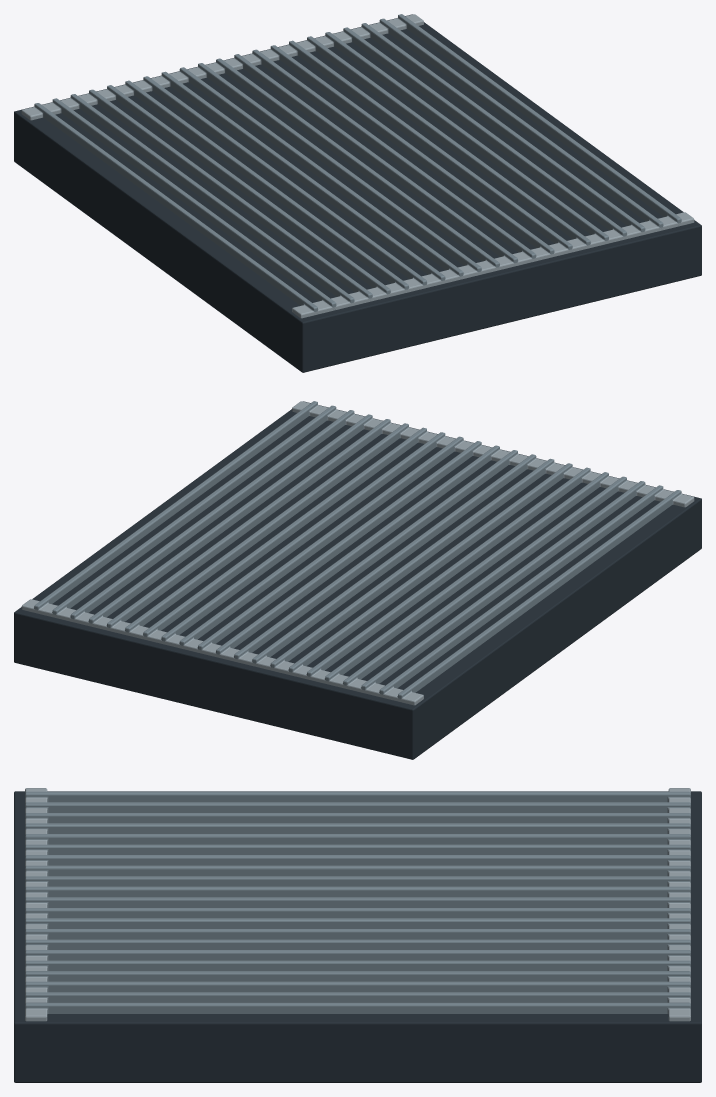
The model's file is SM_Lab_GalleryTile.fbx.
3 views of the same model, one above another, from view 1: azimuth 30°, elevation 25°; view 2: azimuth 150°, elevation 25°; view 3: azimuth 270°, elevation 25° (orthographic). The views are drawn at different scales.
Visible parts, largest first — view 1: SM_Lab_GalleryTile; view 2: SM_Lab_GalleryTile; view 3: SM_Lab_GalleryTile.
Part boxes in pixels (x1,y1,x2,y2): SM_Lab_GalleryTile: (14, 14, 701, 372); SM_Lab_GalleryTile: (14, 401, 701, 759); SM_Lab_GalleryTile: (14, 788, 701, 1082).
Bounding box in the file's own units: 198 × 248 × 27.5.
